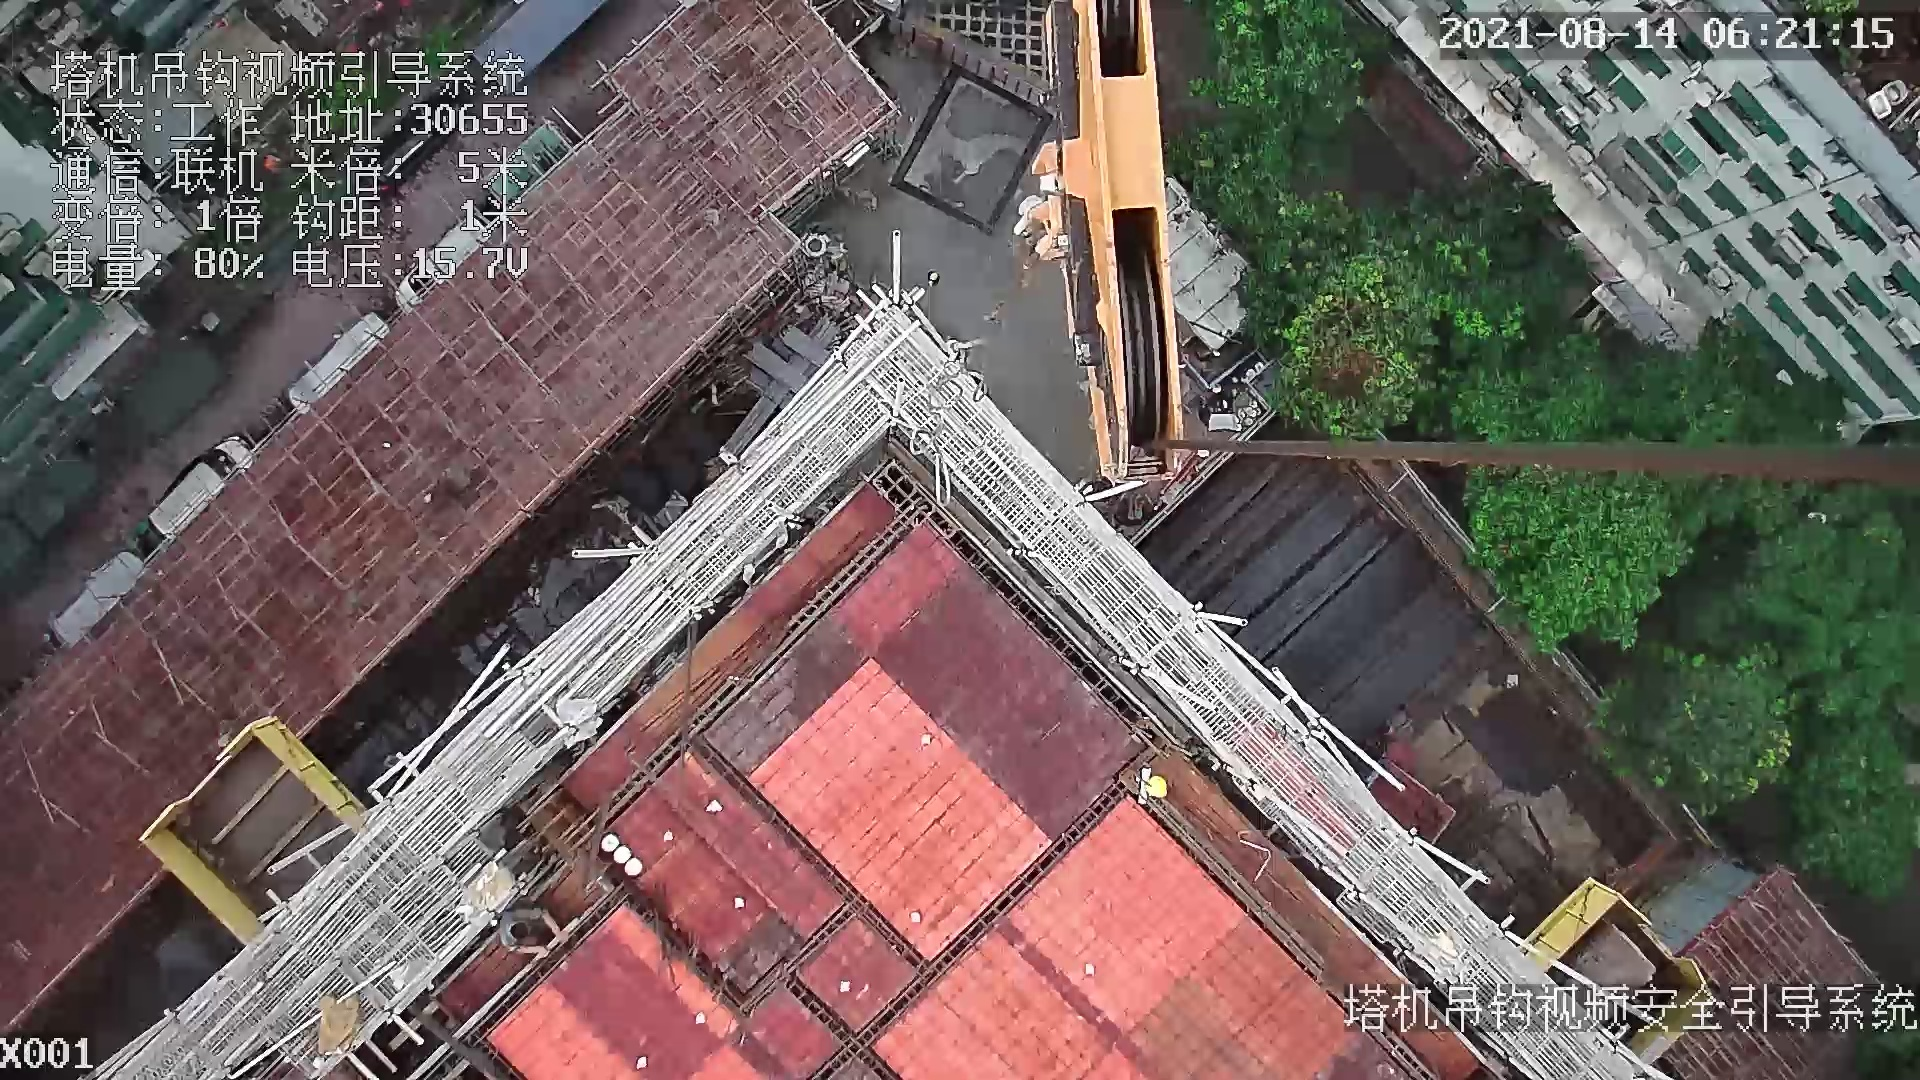helmet: (1140, 758, 1172, 804)
hook: (1041, 2, 1183, 485)
person: (498, 901, 572, 962)
